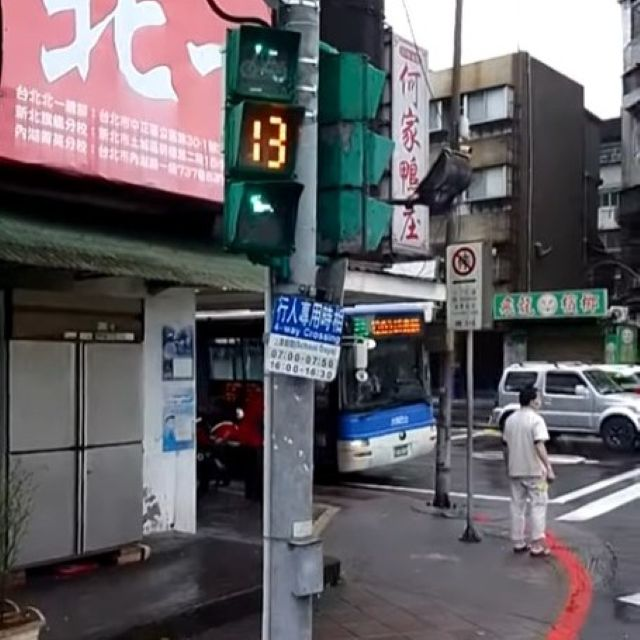green_light: (228, 24, 302, 257)
